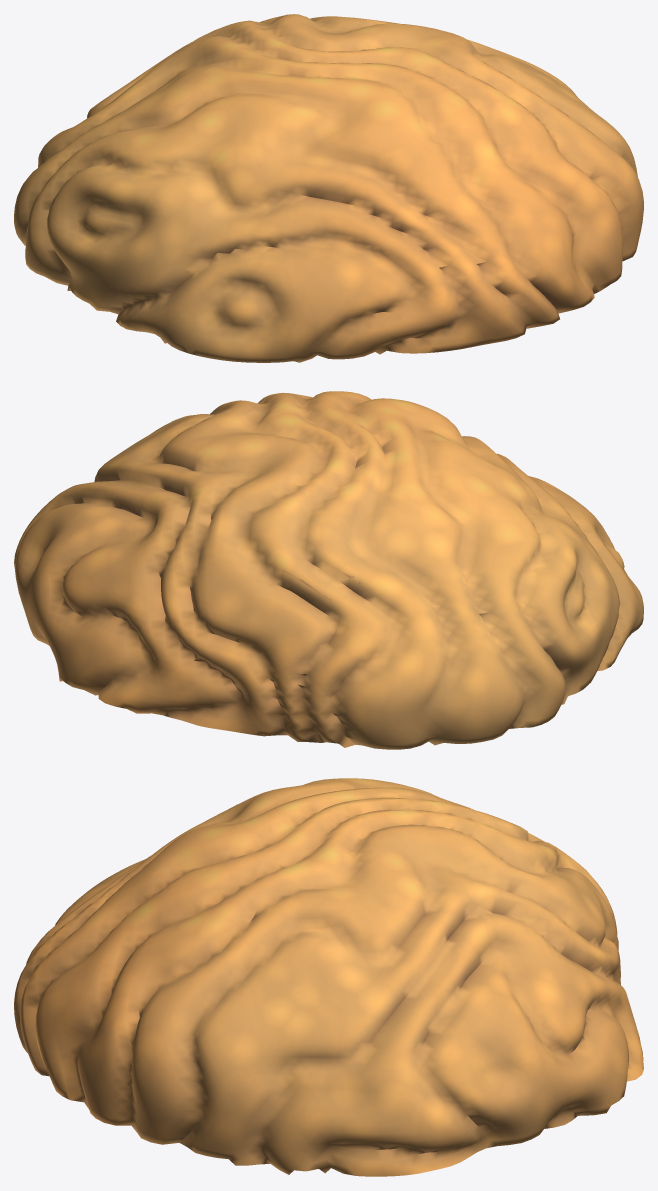
File: WM_CoralBrain_C.fbx
3 views of the same model, one above another, from view 1: azimuth 30°, elevation 25°; view 2: azimuth 150°, elevation 25°; view 3: azimuth 270°, elevation 25° (orthographic). The views are drawn at different scales.
Visible parts, largest first — view 1: WM_CoralBrain_C_LOD0; view 2: WM_CoralBrain_C_LOD0; view 3: WM_CoralBrain_C_LOD0.
Part boxes in pixels (box(x1,y1,x2,y2)): WM_CoralBrain_C_LOD0: box(14, 14, 643, 362); WM_CoralBrain_C_LOD0: box(14, 391, 643, 749); WM_CoralBrain_C_LOD0: box(14, 778, 643, 1176).
Size of what is drawn, in the model's own units: 1.22 by 0.414 by 1.12.
